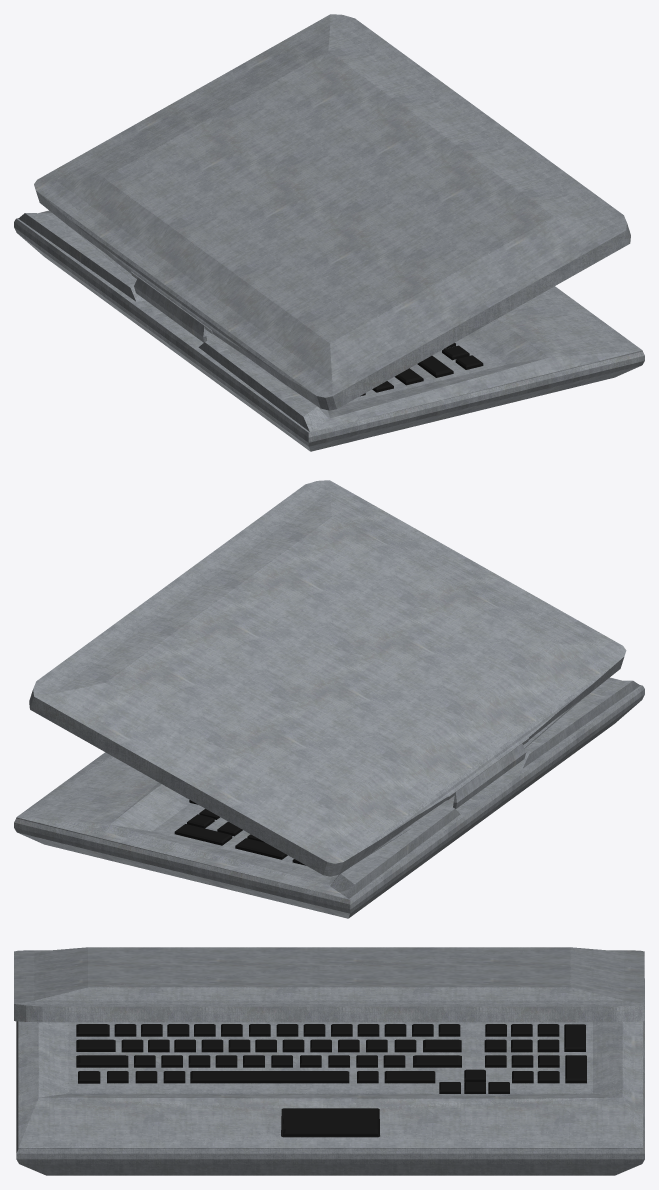
The model's file is portatil2.fbx.
The picture shows the model from 3 angles, top to bottom: view 1: azimuth 30°, elevation 25°; view 2: azimuth 150°, elevation 25°; view 3: azimuth 270°, elevation 25°; orthographic projection. The views are drawn at different scales.
Parts seen in each view (by area): view 1: laptop2:Mesh; view 2: laptop2:Mesh; view 3: laptop2:Mesh.
Boxes of the visible parts, box(x1,y1,x2,y2) form: laptop2:Mesh: box(14, 14, 644, 451); laptop2:Mesh: box(14, 480, 644, 918); laptop2:Mesh: box(14, 947, 644, 1175).
Bounding box in the file's own units: 2.21 × 1.1 × 3.37.
3 materials, 1 textured.
